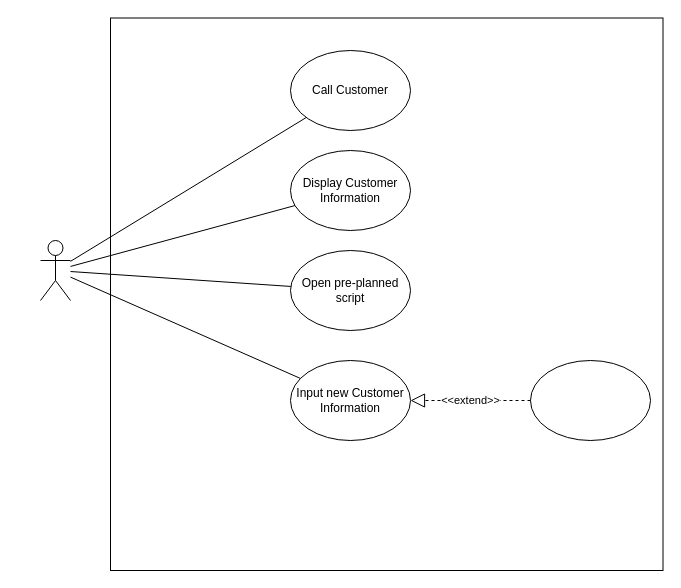
This 681x588 diagram has some shape labels left out. The centre of each missing label's shape, as x and y in pixels:
Customer Information Updated: the point at 590,400
Relationship Manager (RM): the point at 55,270
